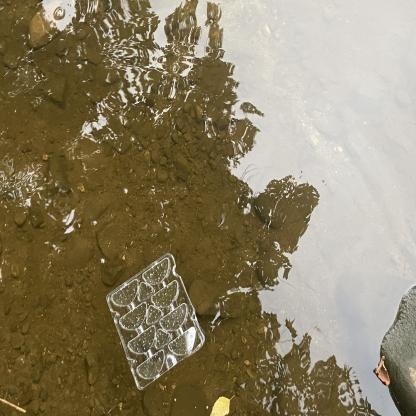trash: (99, 249, 208, 393)
